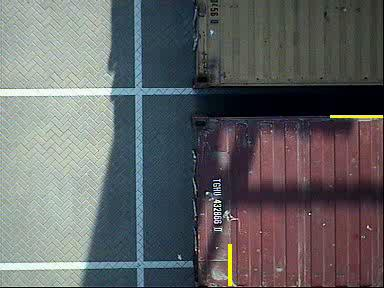groundmarker_2: (92, 64, 154, 95)
